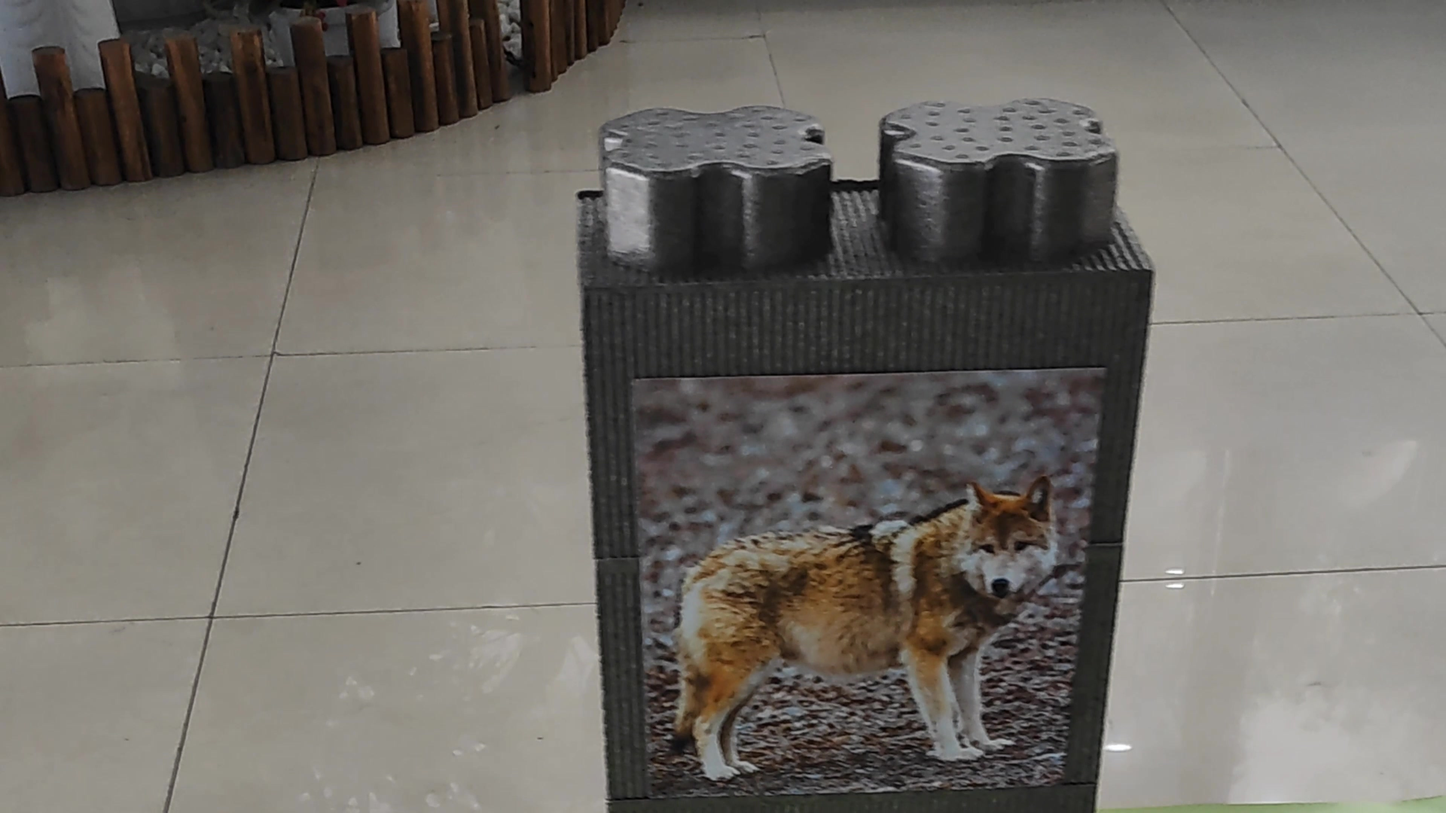wolf: (644, 453, 1055, 795)
